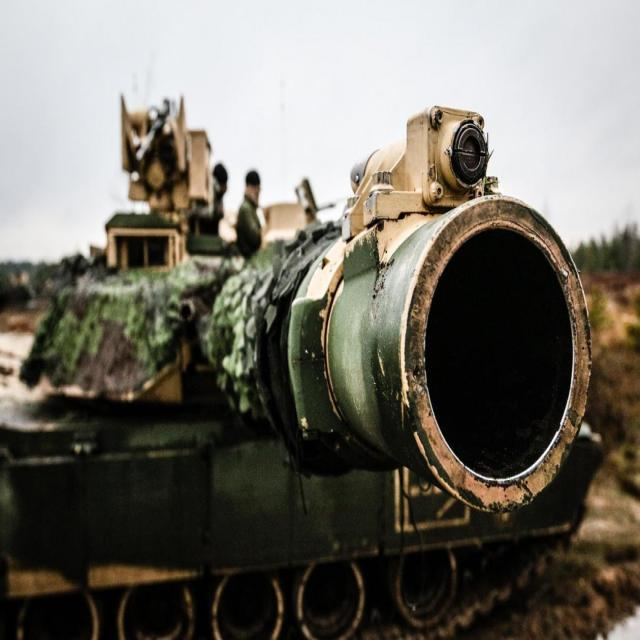MIL_MBT: (9, 131, 542, 628)
